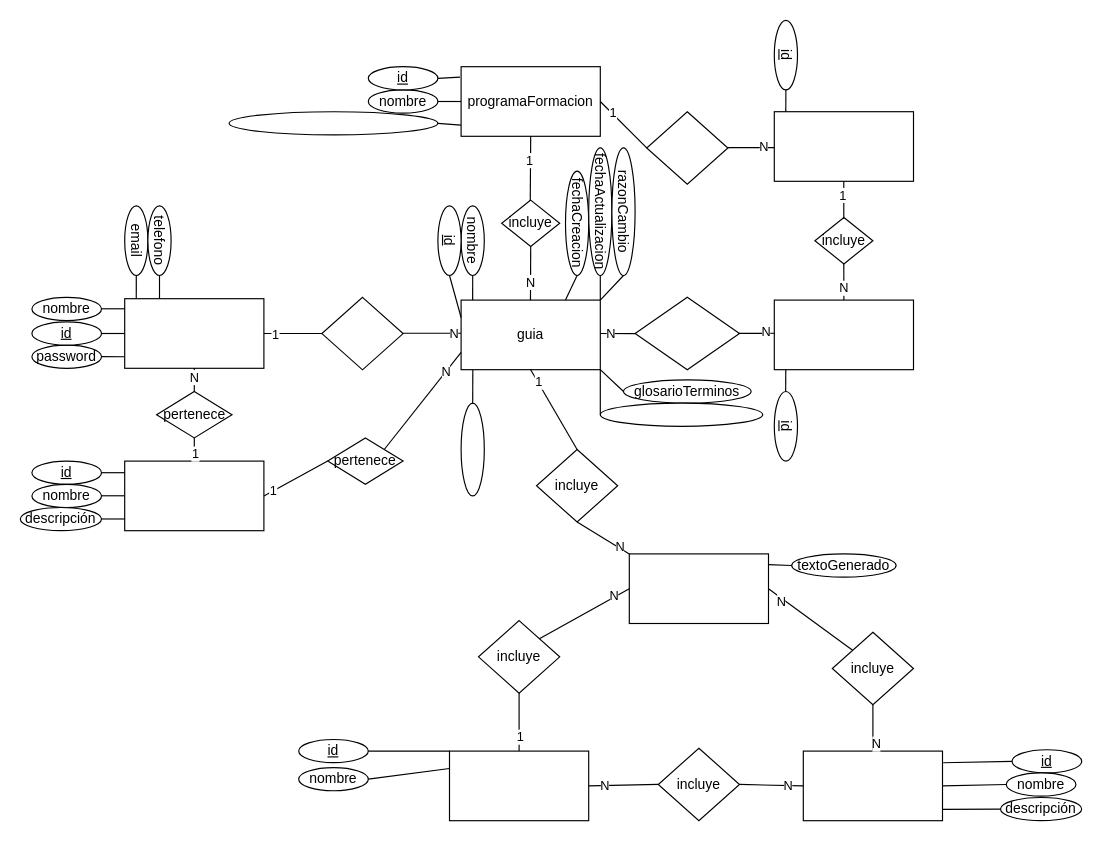
The diagram is 1102 pixels wide and 841 high, and some of its shapes have lost their labels. The centre of each missing label's shape, as x and y in pixels:
codigo programa formacion: pixel 333 123
competencia: pixel 843 146
contiene: pixel 687 147
desarrolla: pixel 362 333
especialidad: pixel 194 495
implementa: pixel 687 333
instructor: pixel 194 333
momentoGenerado: pixel 698 588
momentosAprendizaje: pixel 518 785
presentacion: pixel 472 449
referentesBibliograficos: pixel 681 414
resultado: pixel 843 334
tecnicasDidacticas: pixel 872 785
